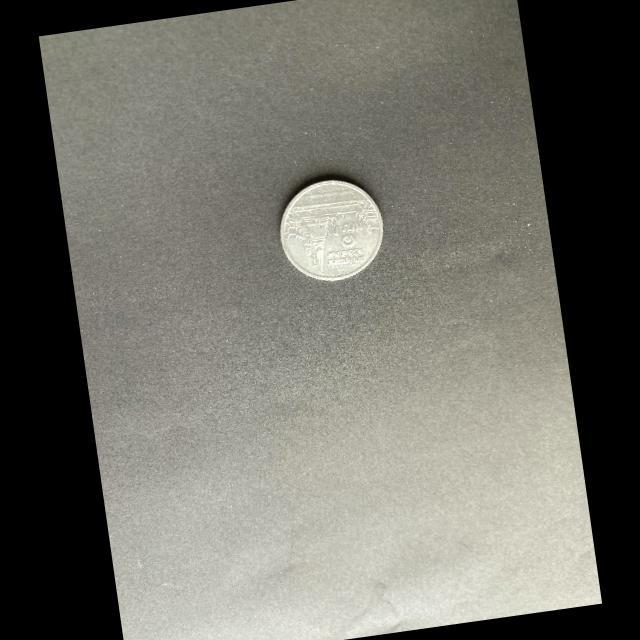1 Bath: (278, 177, 387, 288)
